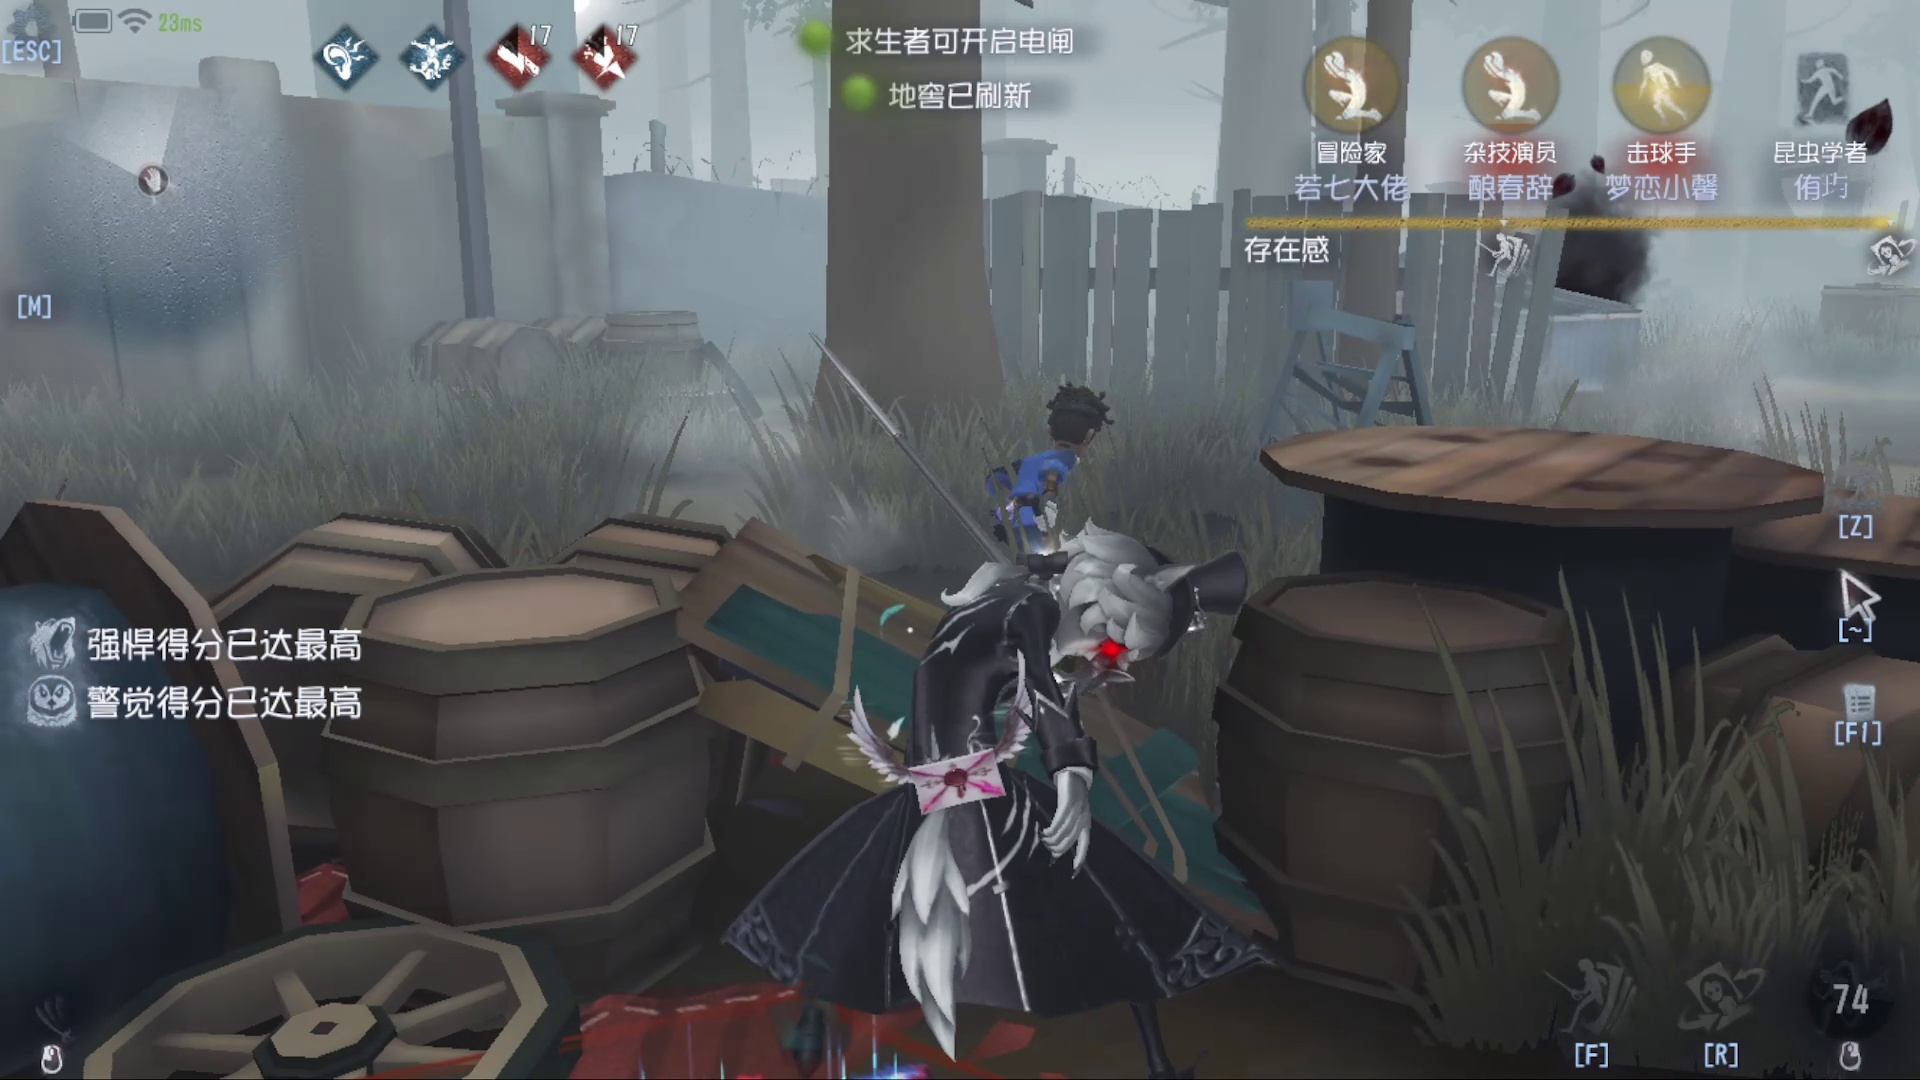木板: (686, 504, 1215, 872)
求生者: (919, 372, 1105, 566)
